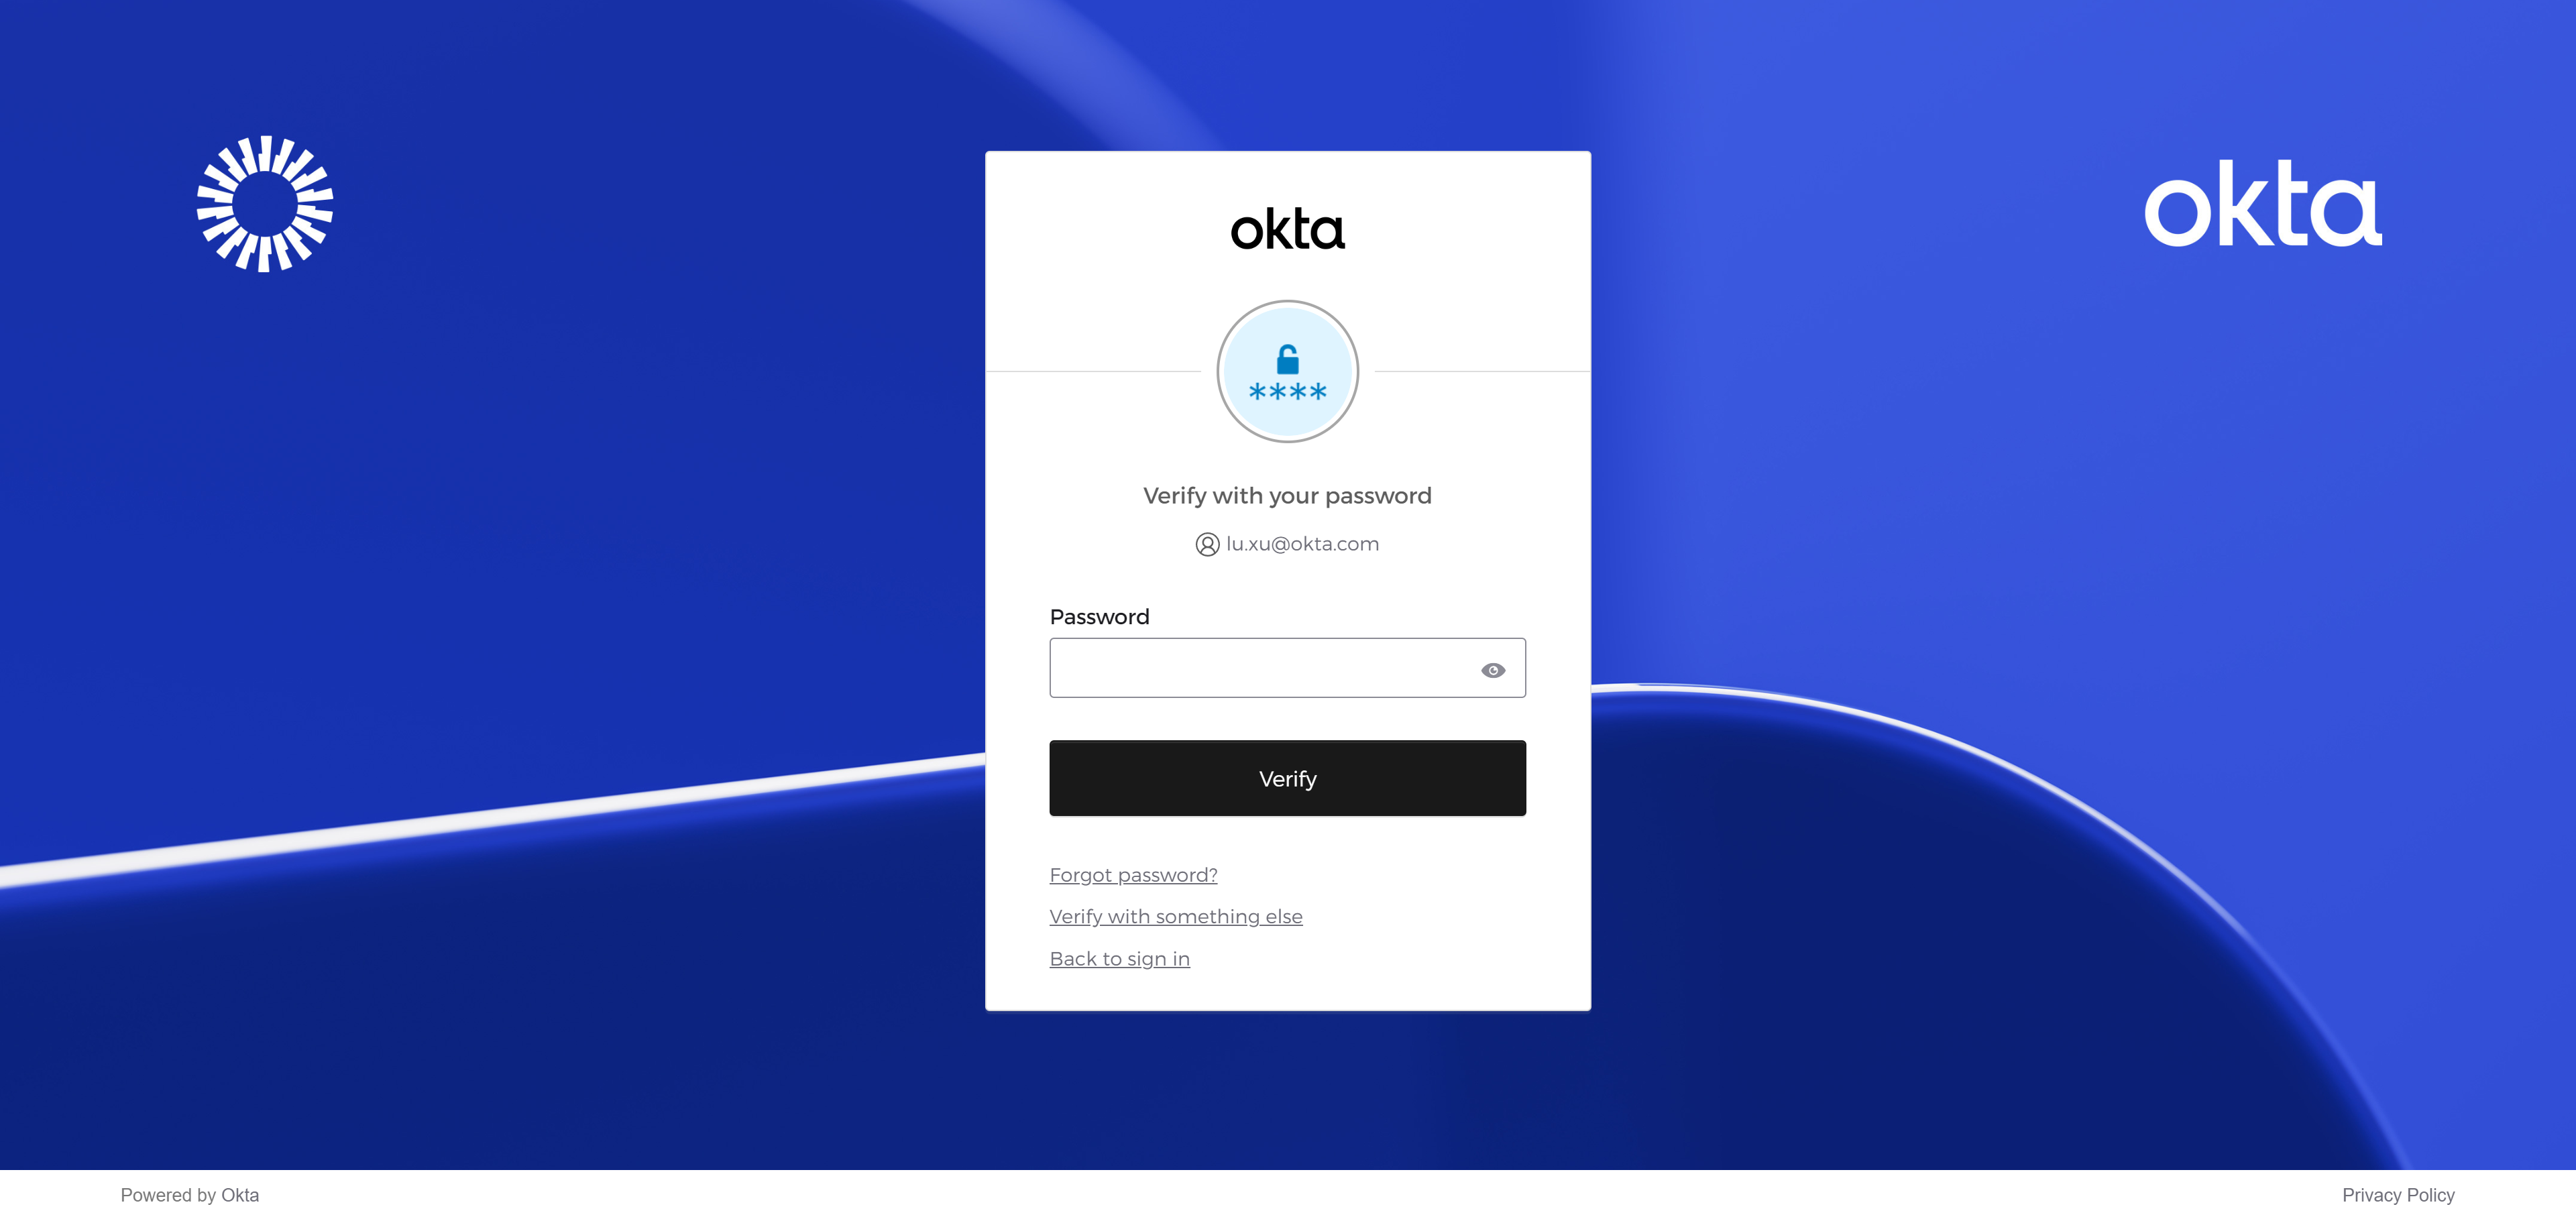login_button: (1048, 740, 1528, 817)
login_form: (1042, 601, 1536, 827)
